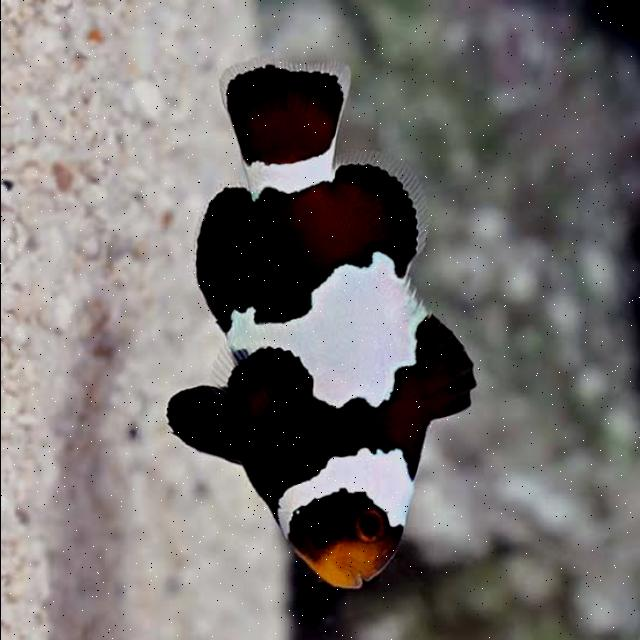Mulut: (308, 524, 394, 612)
Sirip Anal: (176, 173, 262, 333)
Sirip Dada: (202, 318, 334, 462)
Sirip Ekor: (183, 28, 367, 174)
Sirip Perut: (148, 334, 245, 496)
Sirip Punggung: (327, 156, 498, 462)
